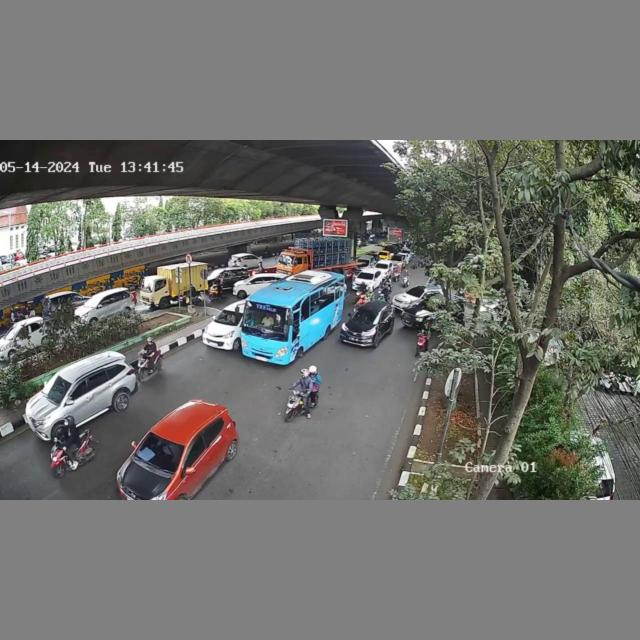windshield: (133, 432, 185, 467), (353, 309, 380, 324), (216, 310, 242, 324)
